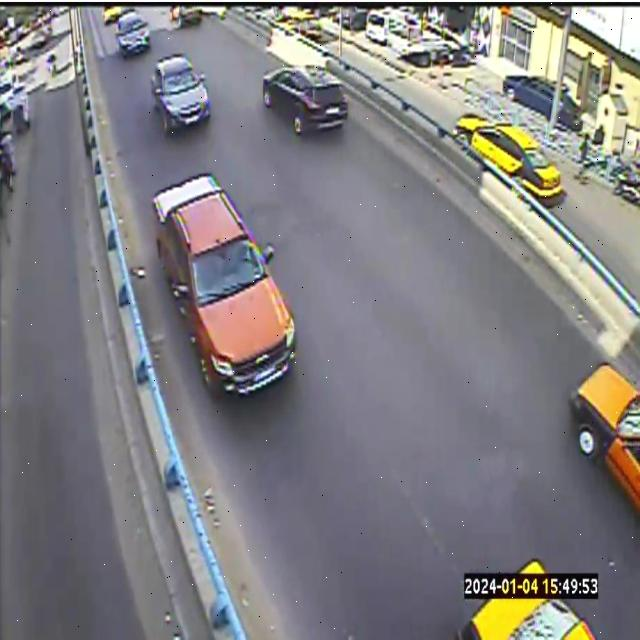car: (152, 174, 296, 395), (457, 560, 595, 639), (570, 363, 639, 509), (454, 113, 563, 198), (262, 65, 349, 135), (151, 54, 210, 133), (116, 12, 150, 56), (170, 5, 201, 27)
